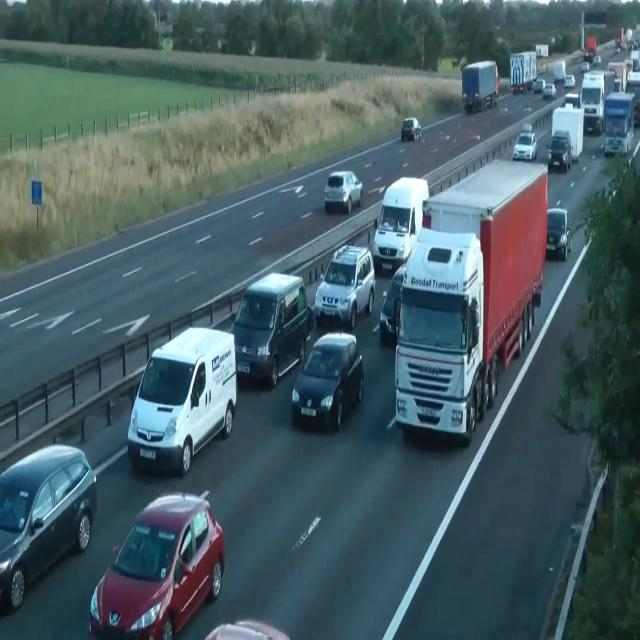bus: (89, 489, 225, 639), (0, 442, 97, 612), (291, 331, 363, 430), (379, 263, 407, 344), (204, 618, 290, 639), (323, 170, 363, 214), (546, 207, 572, 260), (513, 131, 537, 161), (401, 116, 421, 142), (564, 92, 580, 109), (542, 82, 556, 100), (533, 78, 545, 92), (563, 74, 575, 87), (520, 123, 532, 135), (614, 78, 622, 92), (579, 62, 589, 72), (583, 51, 593, 61), (593, 54, 601, 65), (614, 46, 620, 54)
car: (394, 226, 486, 445), (372, 175, 429, 273)
jeep: (127, 324, 237, 476), (228, 271, 314, 387), (314, 243, 376, 328), (546, 129, 572, 171)
minibus: (394, 157, 548, 446), (579, 70, 615, 134), (603, 90, 635, 156), (550, 101, 584, 163), (461, 60, 499, 112), (509, 51, 537, 92), (554, 60, 566, 84), (584, 36, 596, 60), (535, 44, 549, 58)
